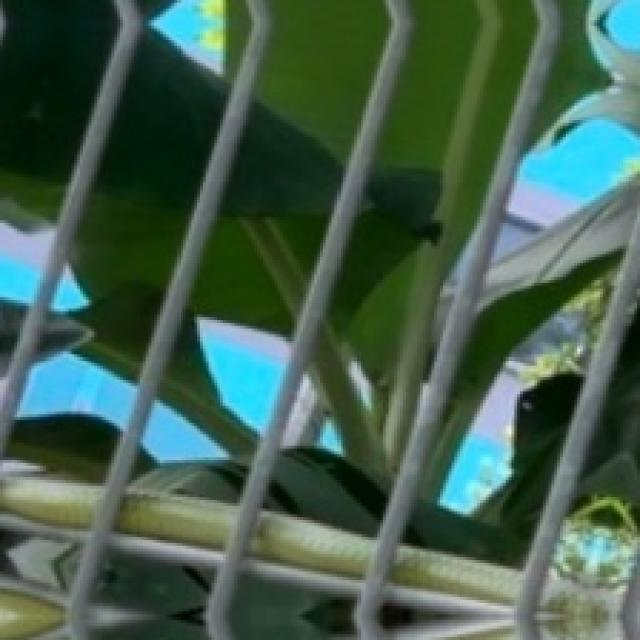paradise tree snake: (249, 511, 371, 577), (389, 546, 517, 606), (117, 489, 231, 549)
